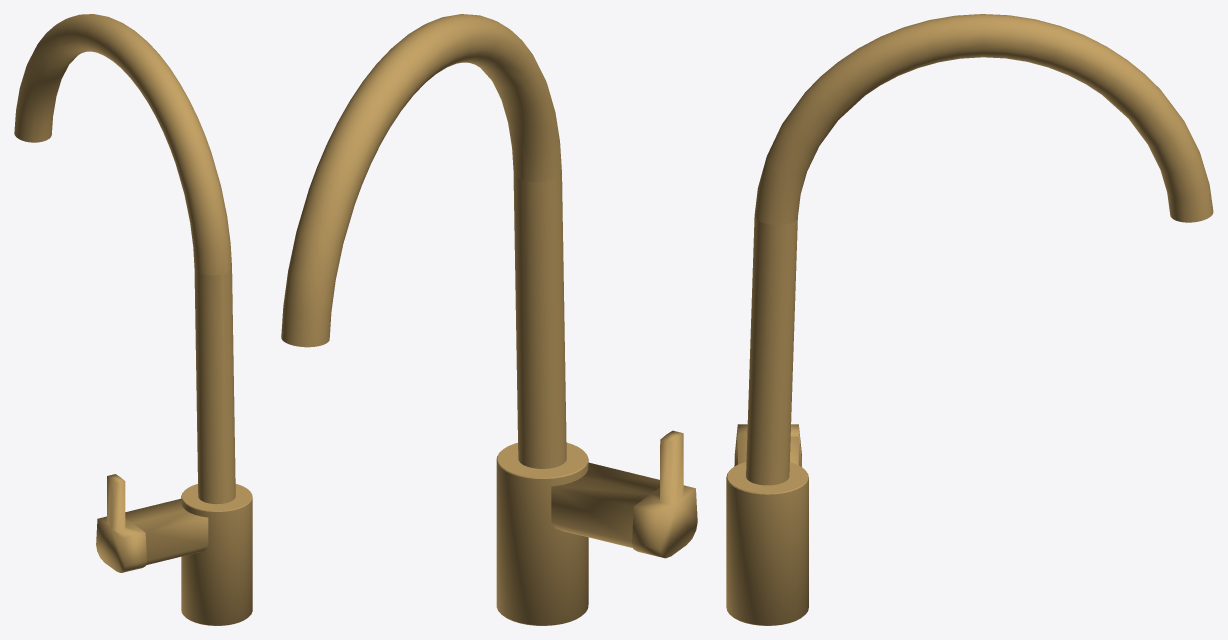
Rendered from 1989_kitchen_faucet_AlignBrushedGold.gltf.
3 renders of one model, left to right at view 1: azimuth 30°, elevation 25°; view 2: azimuth 150°, elevation 25°; view 3: azimuth 270°, elevation 25°, orthographic. The views are drawn at different scales.
Visible parts, largest first — view 1: Align Brushed Gold; view 2: Align Brushed Gold; view 3: Align Brushed Gold.
Boxes of the visible parts, x1,y1,x2,y2 form: Align Brushed Gold: (14, 14, 252, 625); Align Brushed Gold: (281, 14, 697, 625); Align Brushed Gold: (726, 14, 1213, 625).
Bounding box in the file's own units: 0.1039 × 0.373 × 0.2775.
